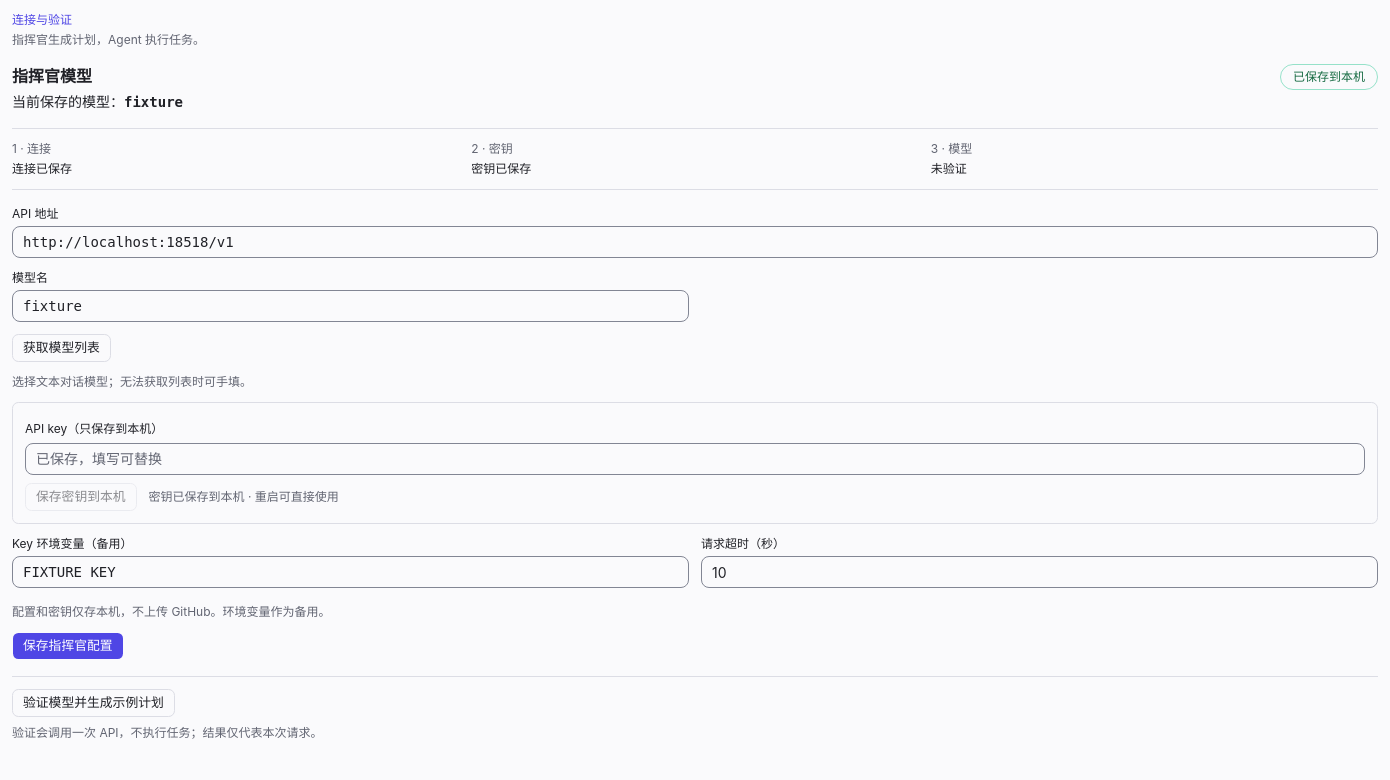
Scenario: cancels verification explicitly and never turns a cancelled request into a passed result
What coordinates should you click on to do the following:
click the button "验证模型并生成示例计划"
I would click on:
 (93, 703)
Its box is [12,689,175,717].
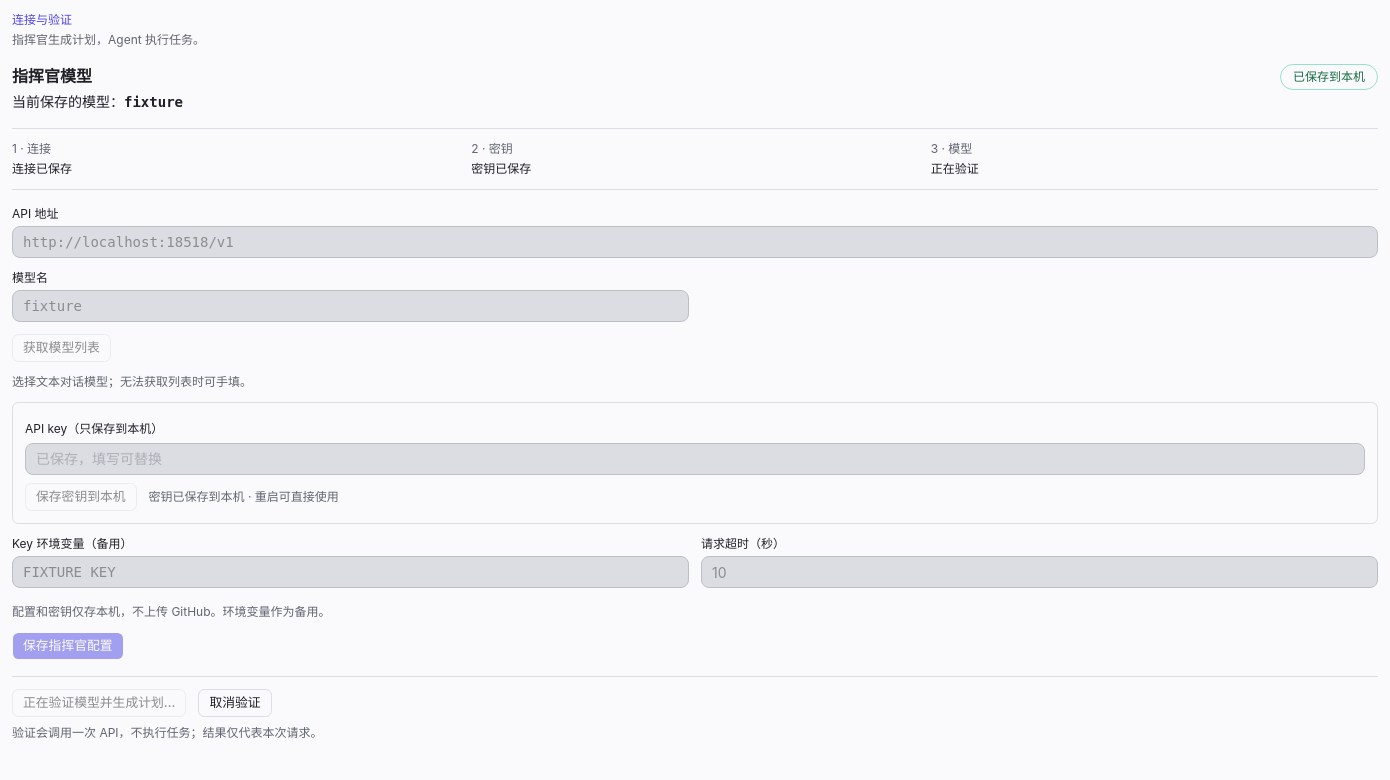
What coordinates should you click on to do the following:
click the button "取消验证"
I would click on:
 (235, 703)
Its box is [198,689,272,717].
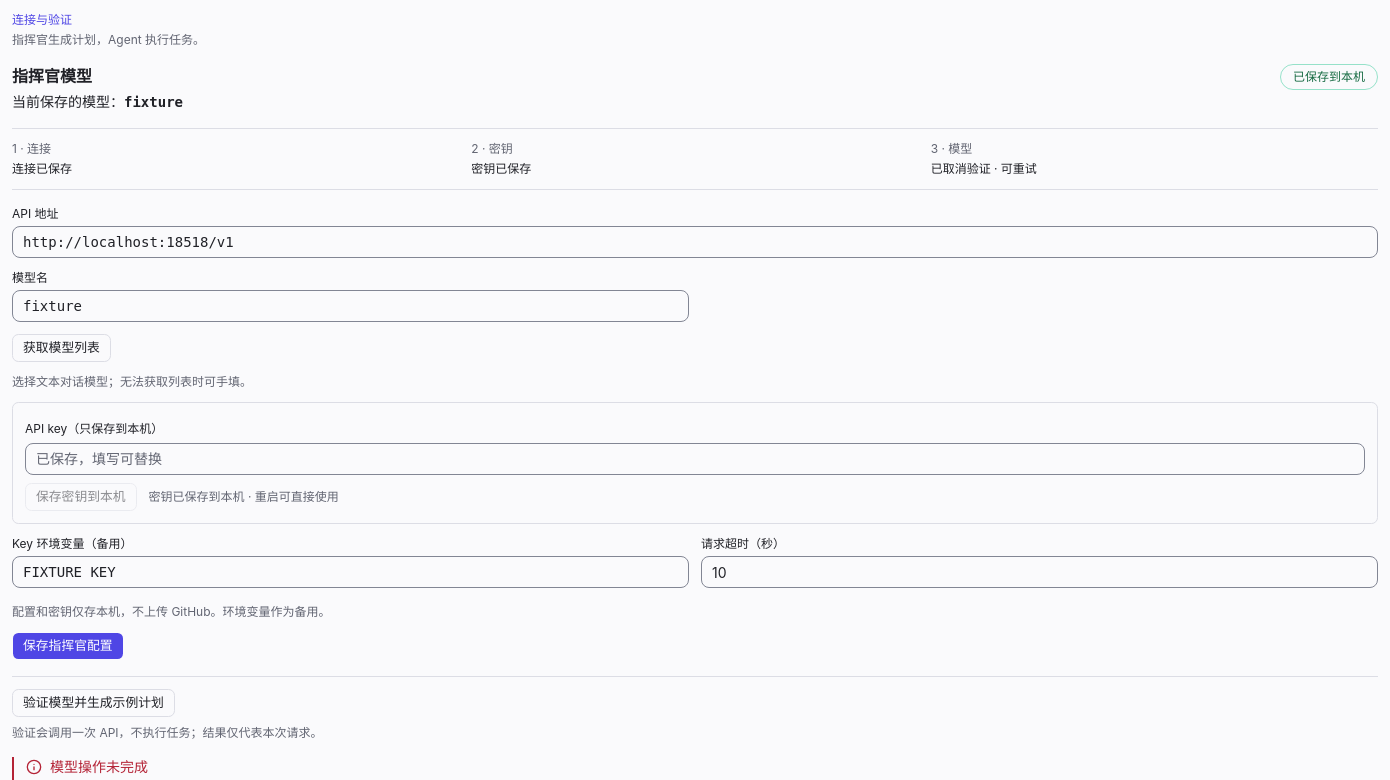
Now the message named "模型验证状态" shows "已取消验证", box [931,161,1037,176]
